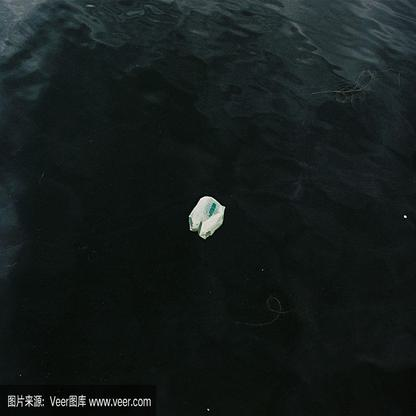plastic bag: (186, 193, 224, 237)
